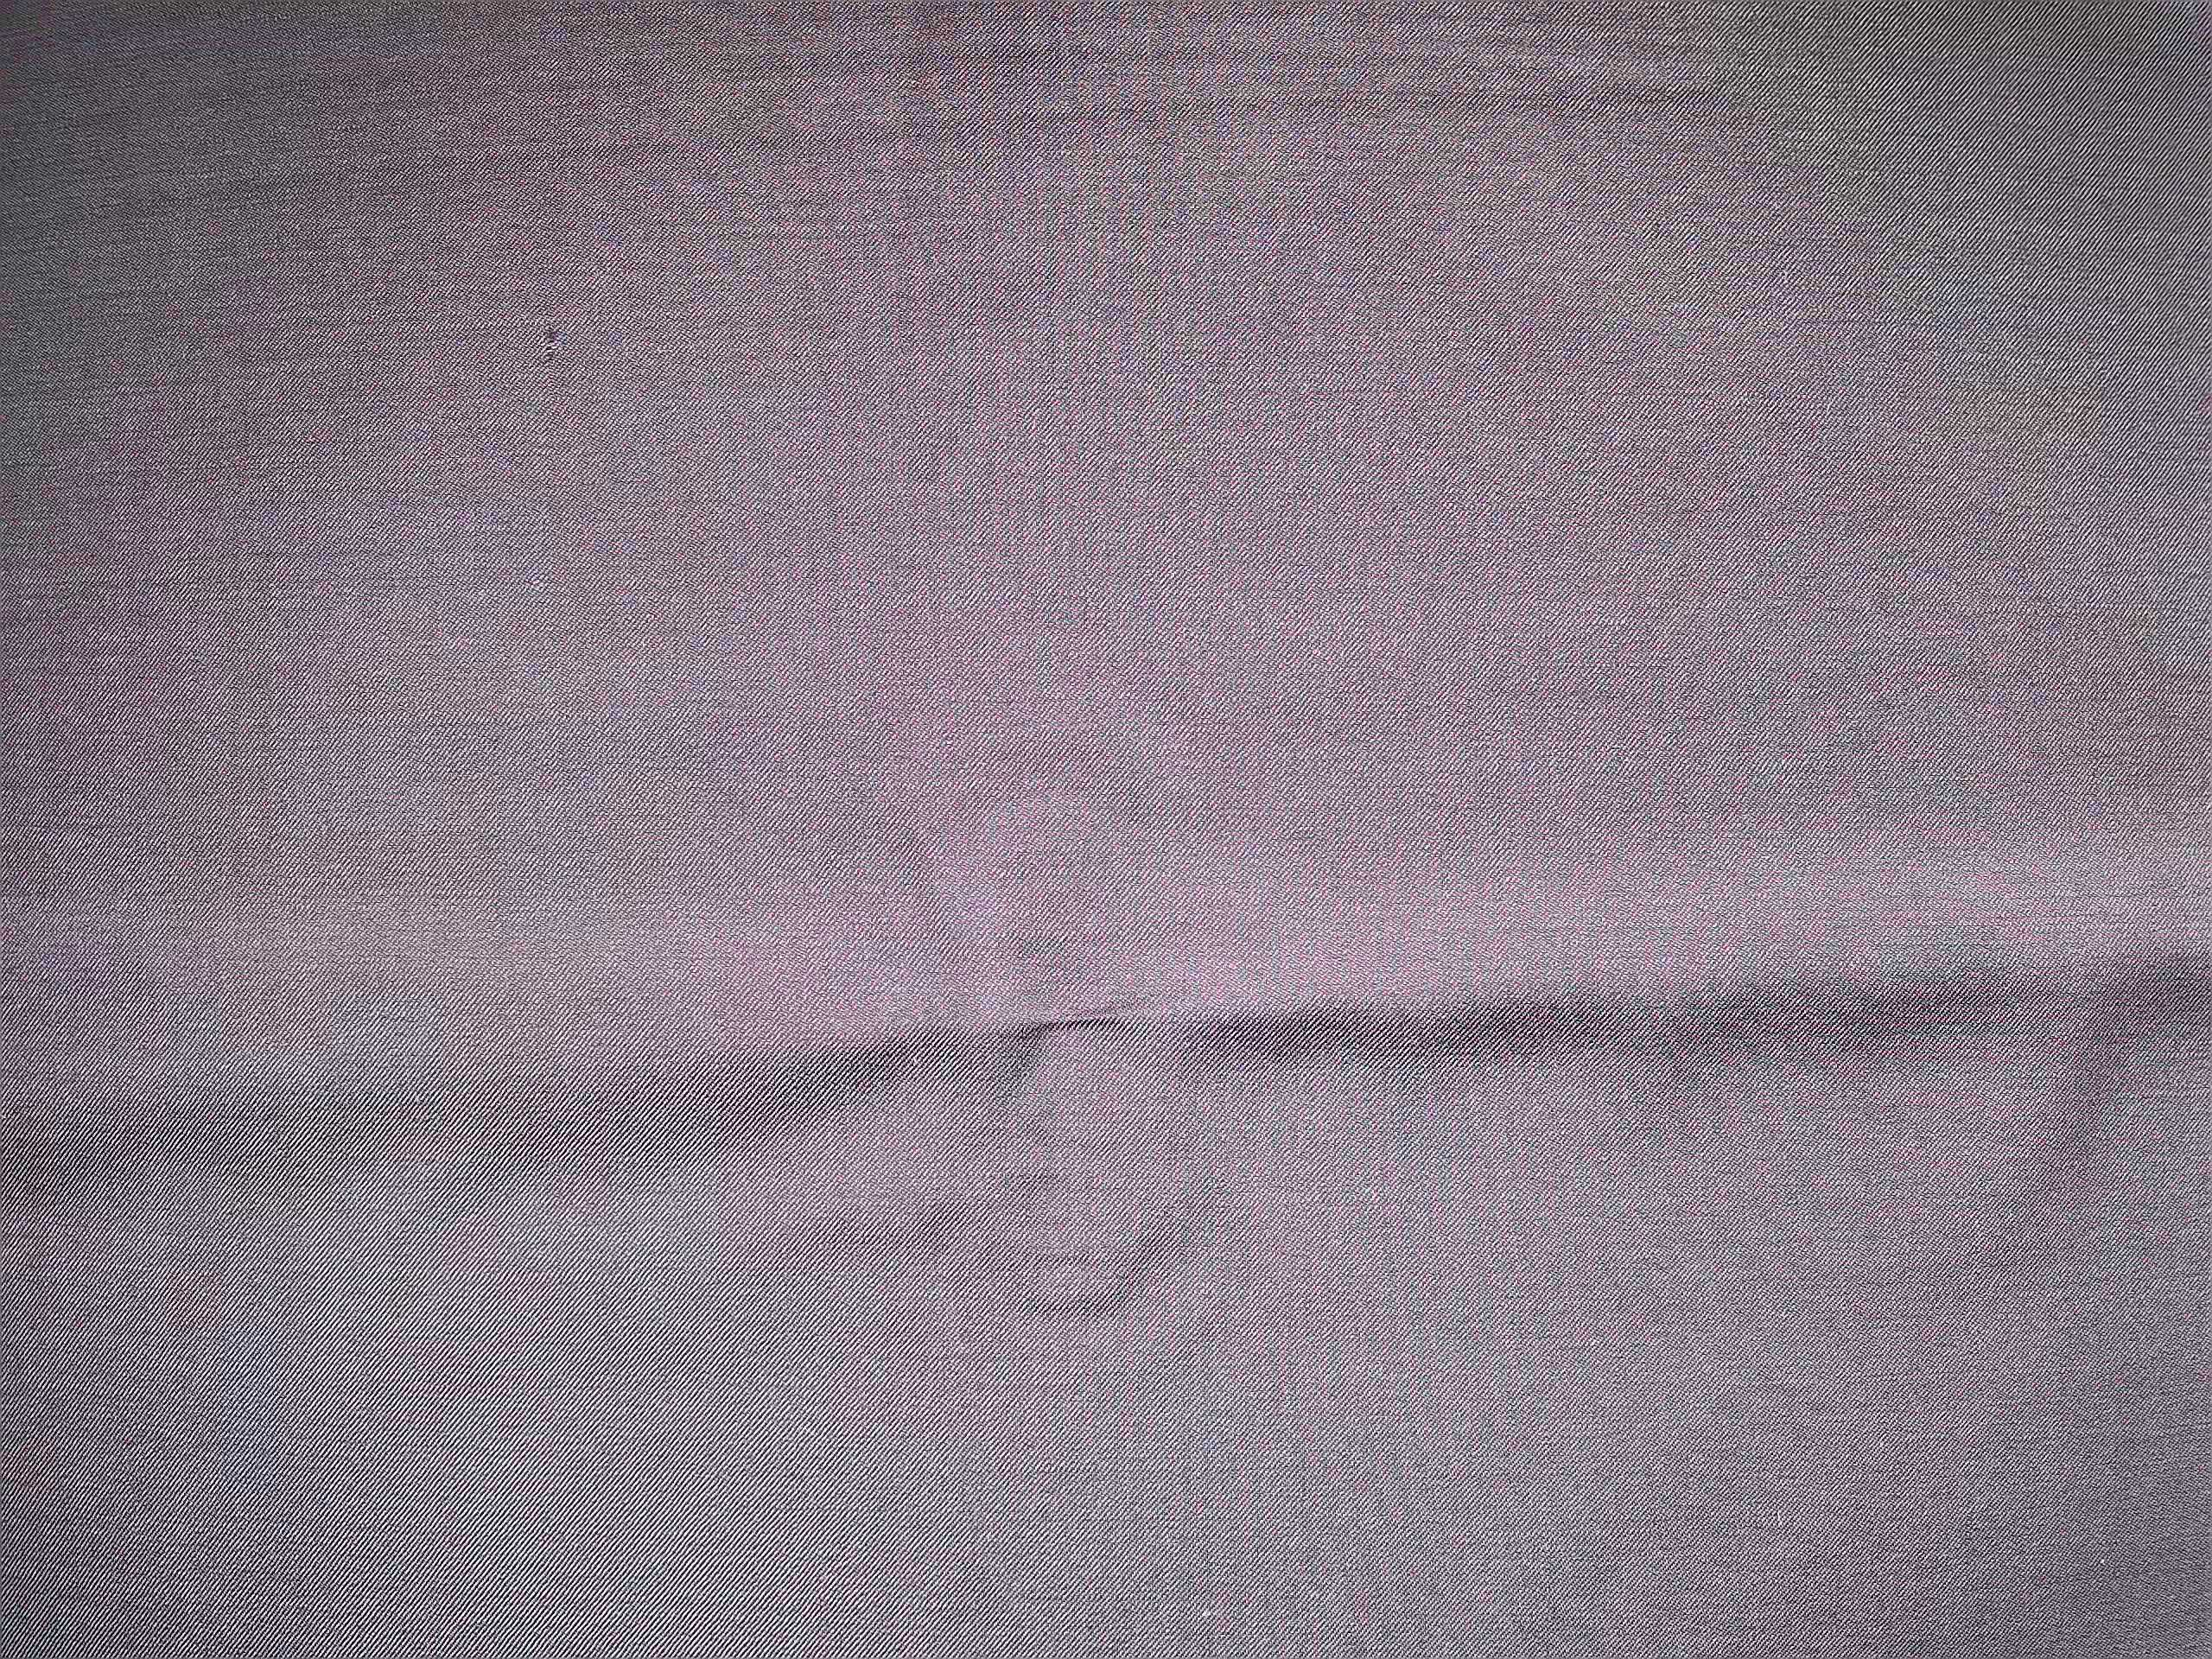knots: (505, 289, 589, 383)
